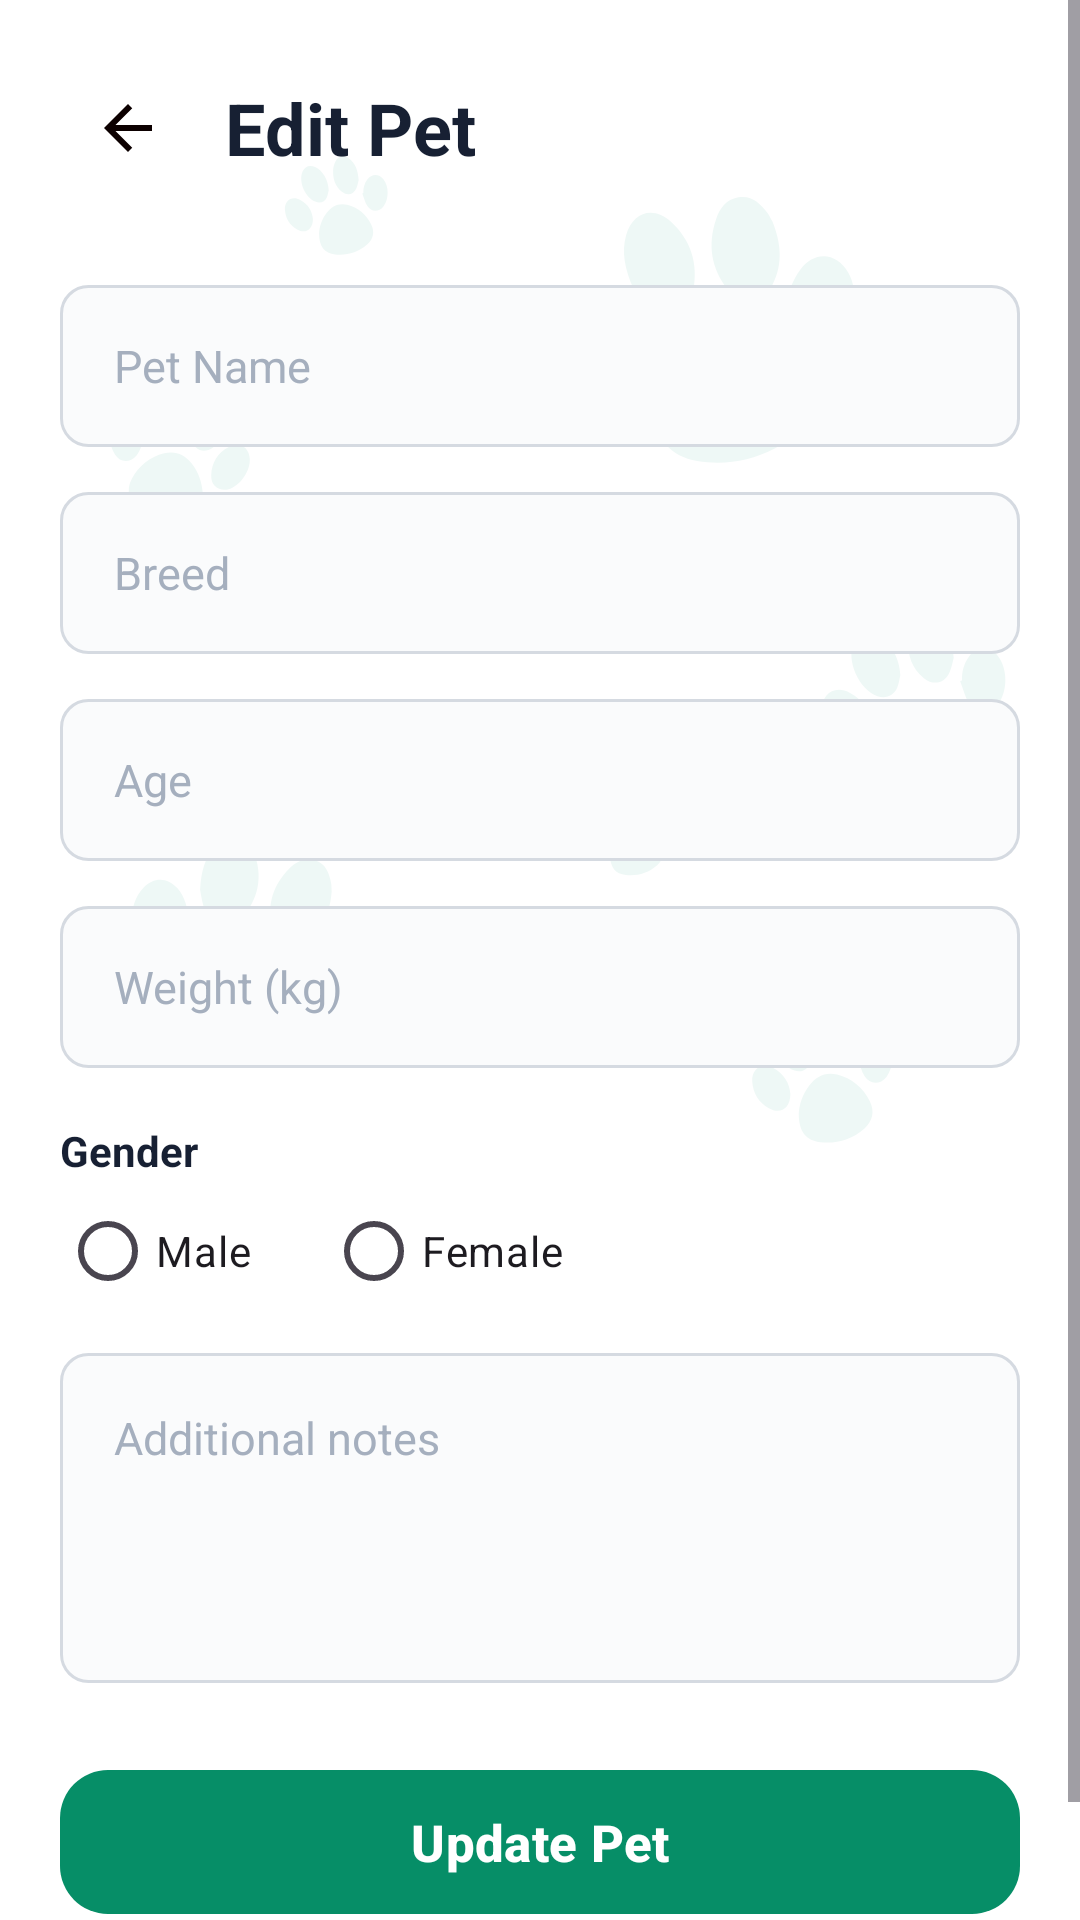

Icons on this 1080 × 1920 Android screen, each with its box as [x1,y1,x2,y2]:
Back: [104,104,152,152]
